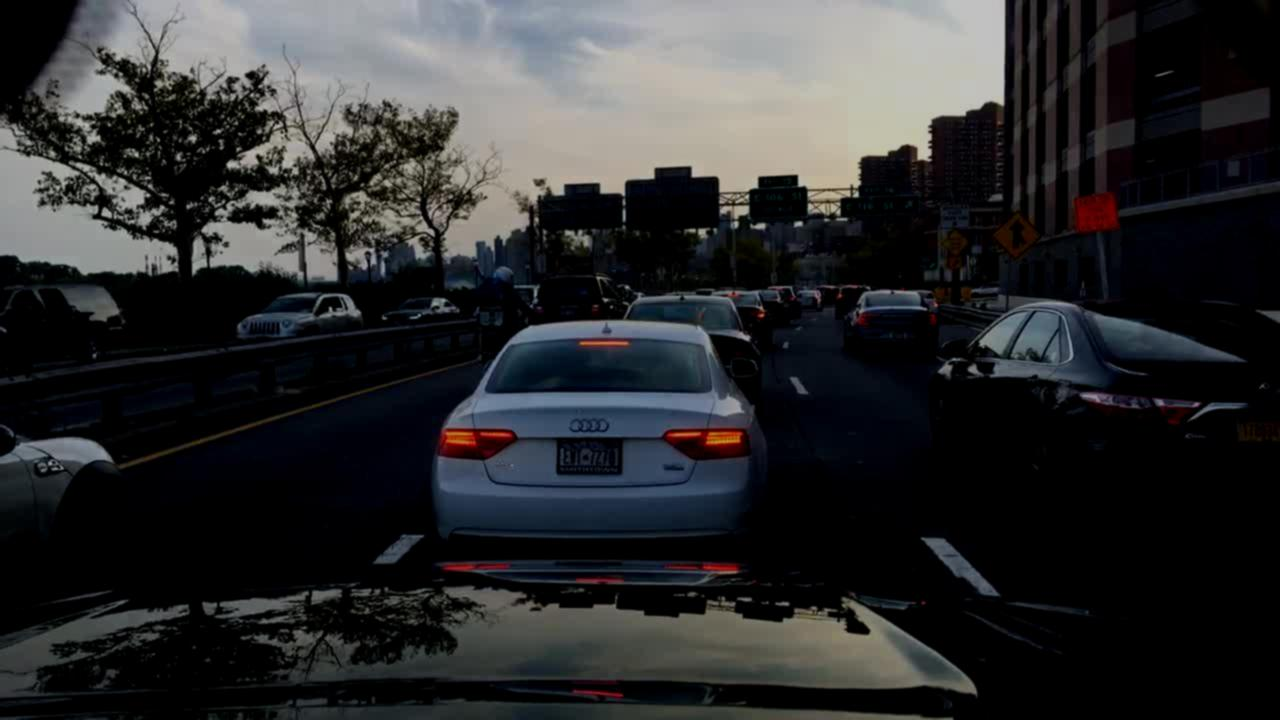Audi: (562, 407, 628, 442)
Toyota: (1255, 375, 1280, 403)
